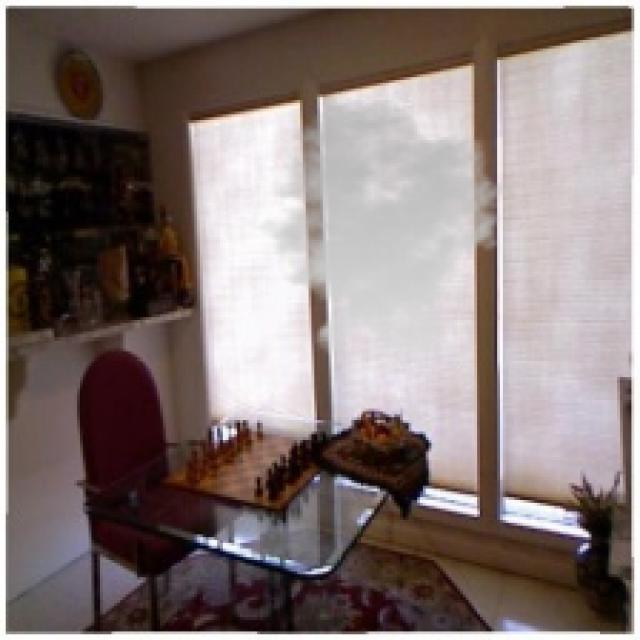Smoke: (239, 97, 512, 366)
